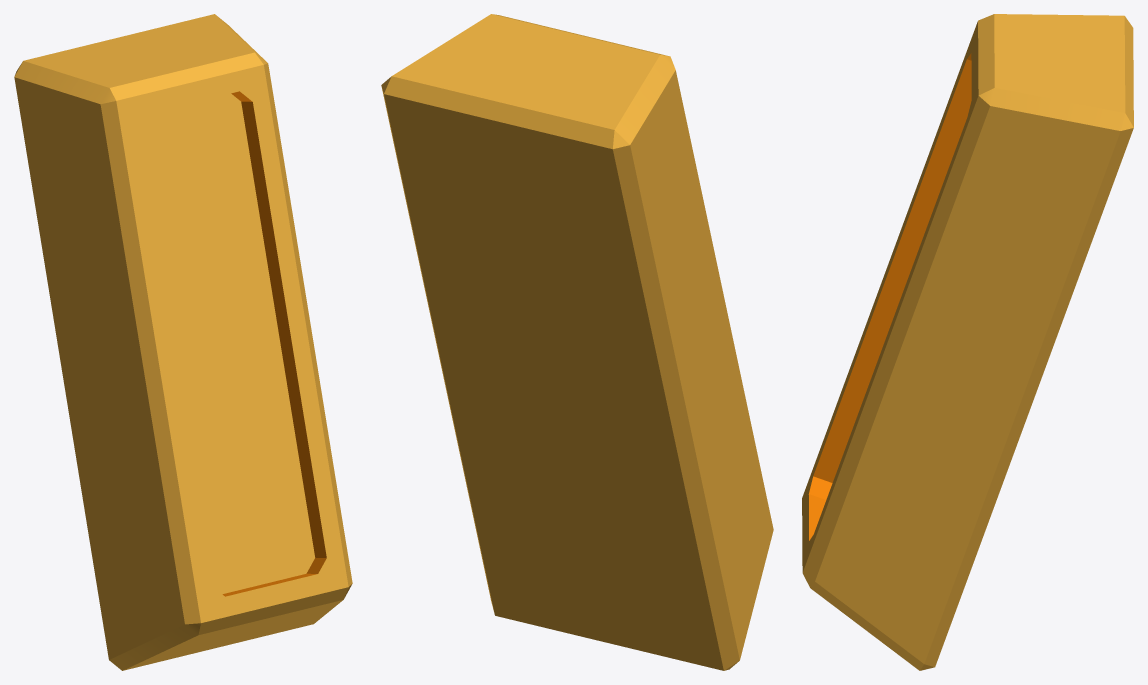
The model's file is barren.FBX.
3 views of the same model, side by side, from view 1: azimuth 30°, elevation 25°; view 2: azimuth 150°, elevation 25°; view 3: azimuth 270°, elevation 25° (orthographic). The views are drawn at different scales.
Parts seen in each view (by area): view 1: barren; view 2: barren; view 3: barren.
Boxes of the visible parts, left/top/right/bottom form: barren: left=14, top=14, right=352, bottom=670; barren: left=381, top=14, right=773, bottom=670; barren: left=802, top=14, right=1133, bottom=670.
Size of the model in its own units: 0.1174 by 0.2886 by 0.1518.
